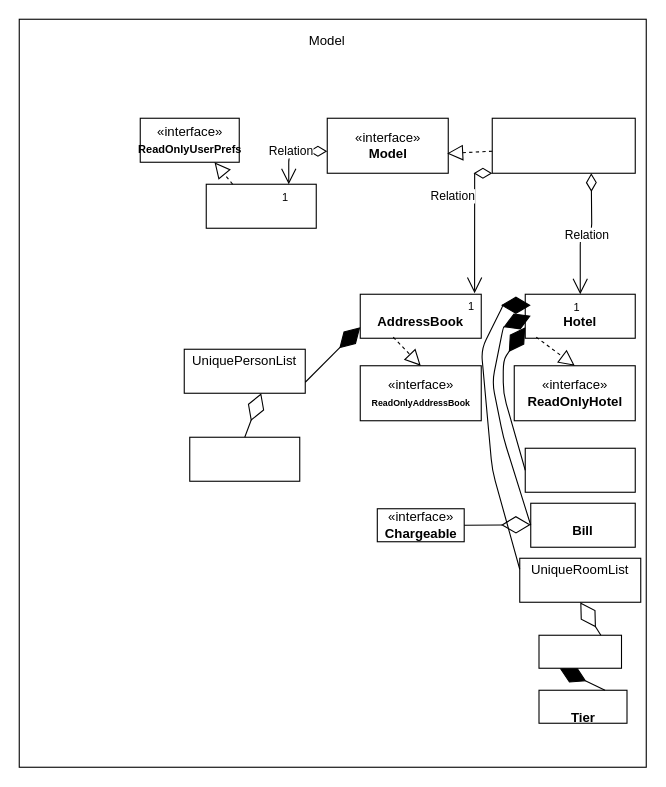
The diagram is 666 pixels wide and 787 high, and some of its shapes have lost their labels. Here are the shapes that lost their labels. From the top down, the box of each, then its label:
(491, 117, 635, 173): ModelManager
(205, 183, 316, 228): UserPrefs
(189, 436, 300, 481): Person
(524, 447, 635, 492): Booking
(538, 634, 622, 668): Room
